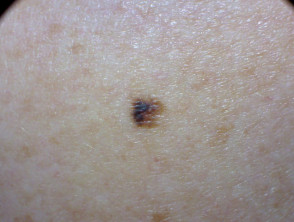melanoma: (98, 62, 184, 143)
